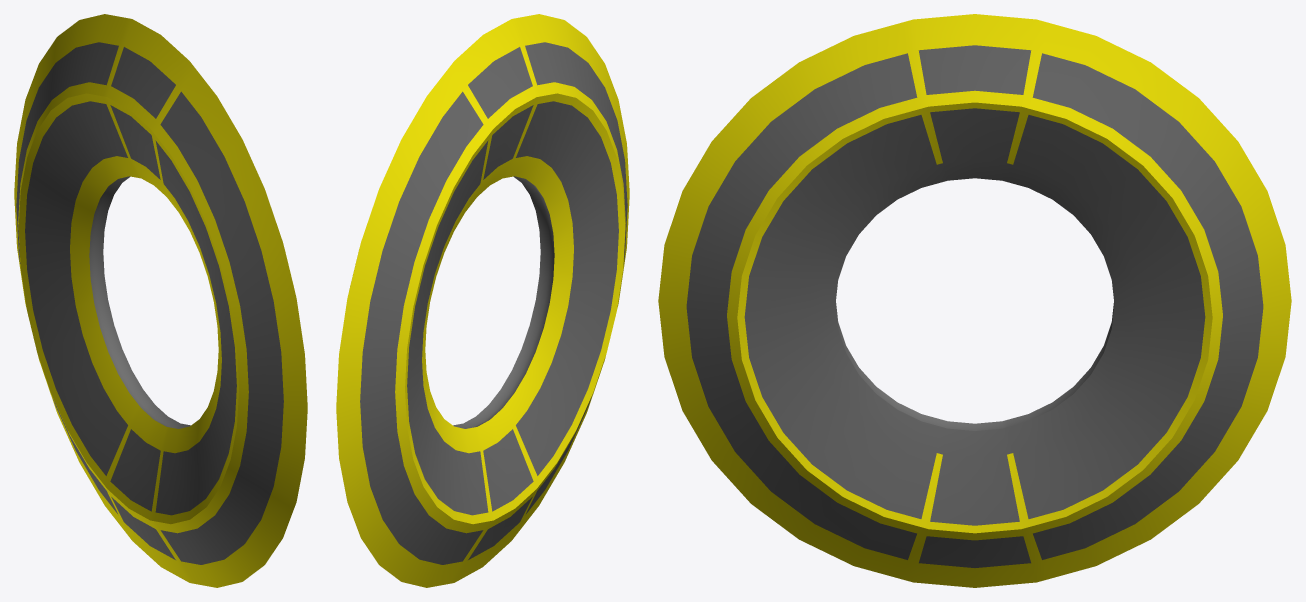
File: disc.gltf
3 views of the same model, side by side, from view 1: azimuth 30°, elevation 25°; view 2: azimuth 150°, elevation 25°; view 3: azimuth 270°, elevation 25° (orthographic). The views are drawn at different scales.
Visible parts, largest first — view 1: Circle.008; view 2: Circle.008; view 3: Circle.008.
Boxes of the visible parts, x1,y1,x2,y2 form: Circle.008: [14, 14, 307, 587]; Circle.008: [336, 14, 629, 587]; Circle.008: [658, 14, 1291, 587].
Bounding box in the file's own units: 0.1317 × 1.04 × 1.04.
